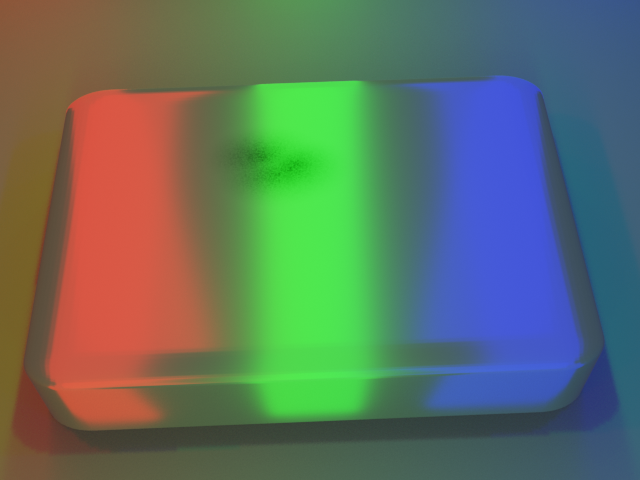stain: (174, 100, 380, 212)
